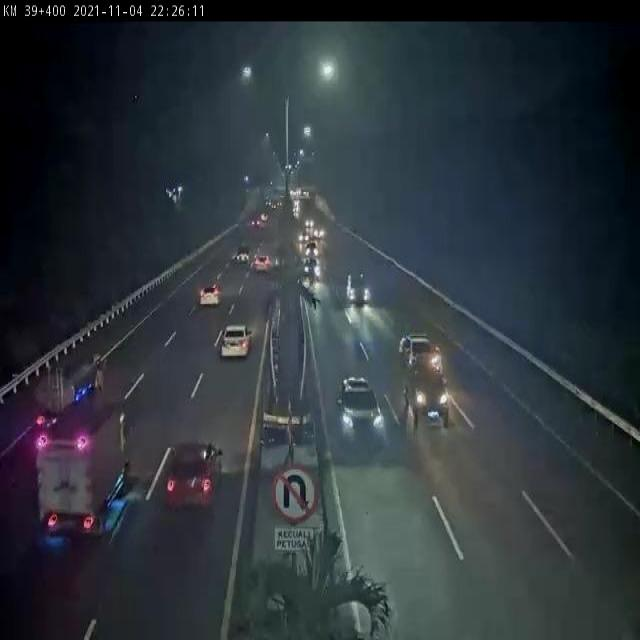Car: (166, 441, 223, 515), (337, 377, 385, 442), (403, 361, 450, 427), (402, 334, 443, 377), (220, 326, 252, 356), (346, 272, 370, 304), (199, 285, 222, 306), (302, 258, 319, 276), (255, 256, 272, 272), (305, 241, 319, 257)
Truck: (33, 402, 130, 534), (35, 346, 105, 424)
